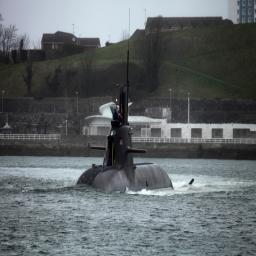submarine: (73, 7, 192, 196)
